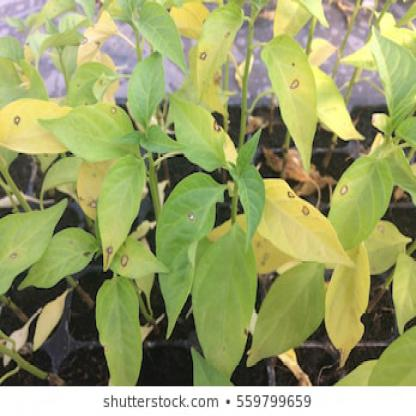bell pepper leaf spot: (153, 174, 224, 342), (257, 175, 356, 266), (261, 34, 315, 172), (1, 195, 66, 297), (330, 152, 393, 253), (191, 6, 247, 110), (37, 104, 137, 160), (97, 155, 144, 272), (22, 229, 101, 293), (168, 94, 227, 168)
